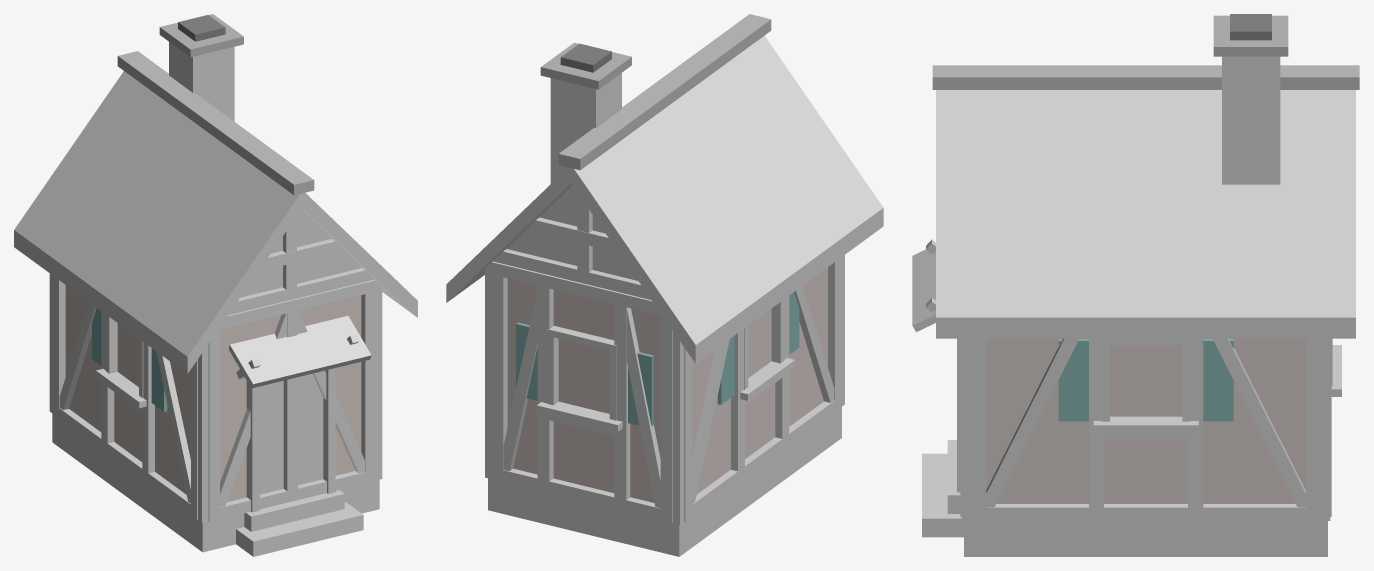
The model's file is house_4.glb.
The picture shows the model from 3 angles, left to right: view 1: azimuth 30°, elevation 25°; view 2: azimuth 150°, elevation 25°; view 3: azimuth 270°, elevation 25°; orthographic projection. The views are drawn at different scales.
Size of the model in its own units: 2.76 by 4.72 by 3.83.
